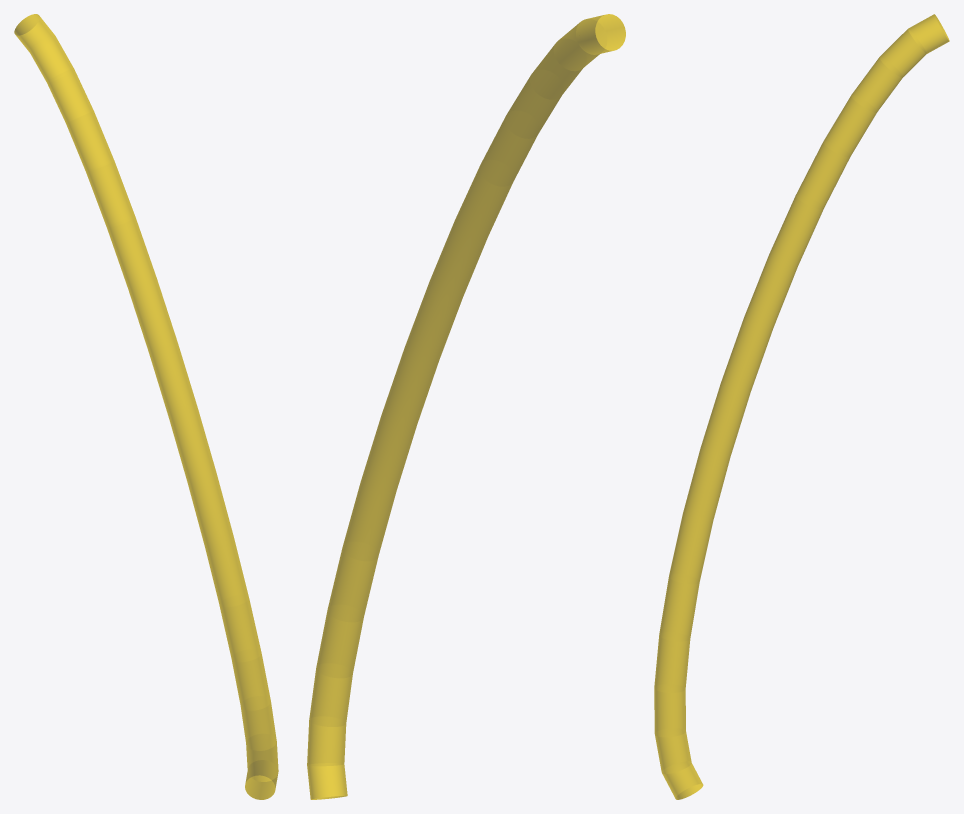
Rendered from Event_402970704_track_47.fbx.
3 renders of one model, left to right at view 1: azimuth 30°, elevation 25°; view 2: azimuth 210°, elevation 25°; view 3: azimuth 270°, elevation 25°, orthographic. The views are drawn at different scales.
Visible parts, largest first — view 1: Model; view 2: Model; view 3: Model.
Boxes of the visible parts, x1,y1,x2,y2 form: Model: (14, 14, 278, 799); Model: (307, 14, 625, 799); Model: (654, 14, 949, 799).
Bounding box in the file's own units: 0.2025 × 1.03 × 0.3765.
